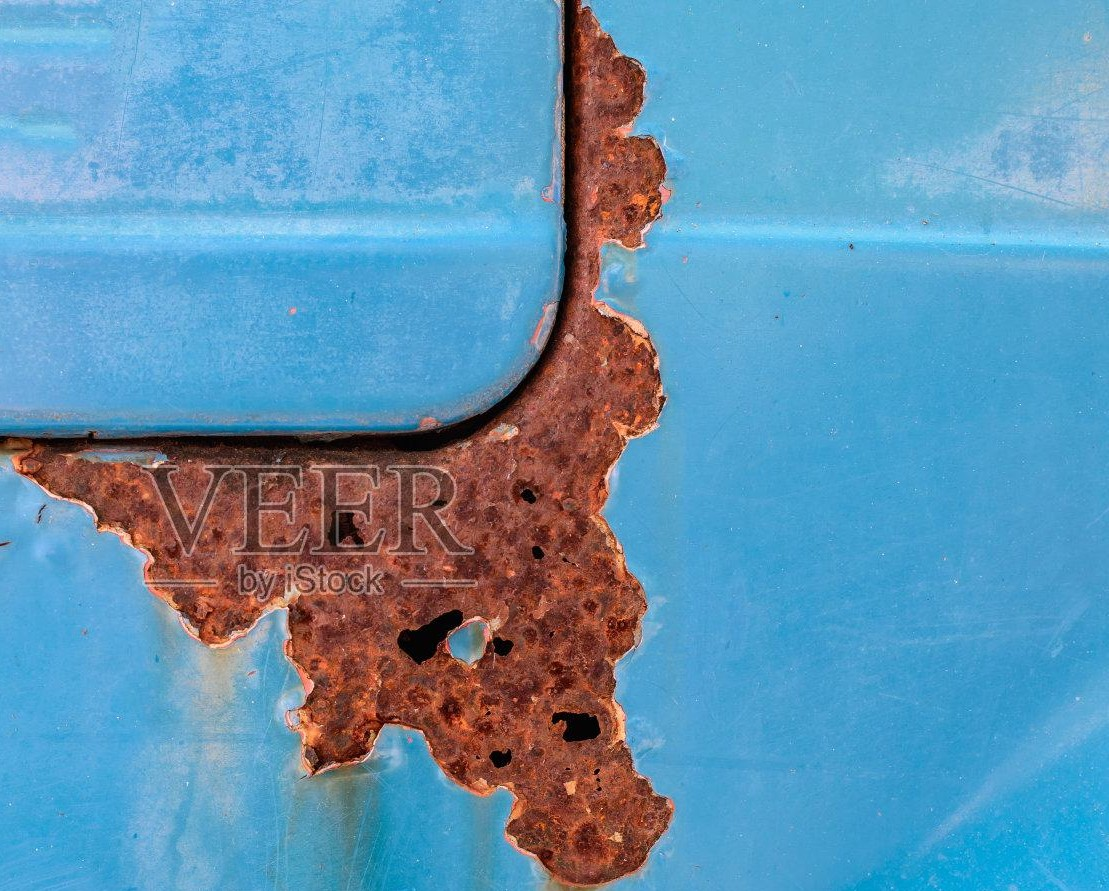Corrosion: (1, 438, 676, 891), (464, 1, 674, 439)
Spalling: (397, 608, 464, 665), (551, 711, 601, 742), (327, 509, 364, 549), (488, 748, 513, 769), (492, 636, 514, 657), (519, 488, 537, 505), (531, 545, 545, 560), (431, 500, 448, 508)
